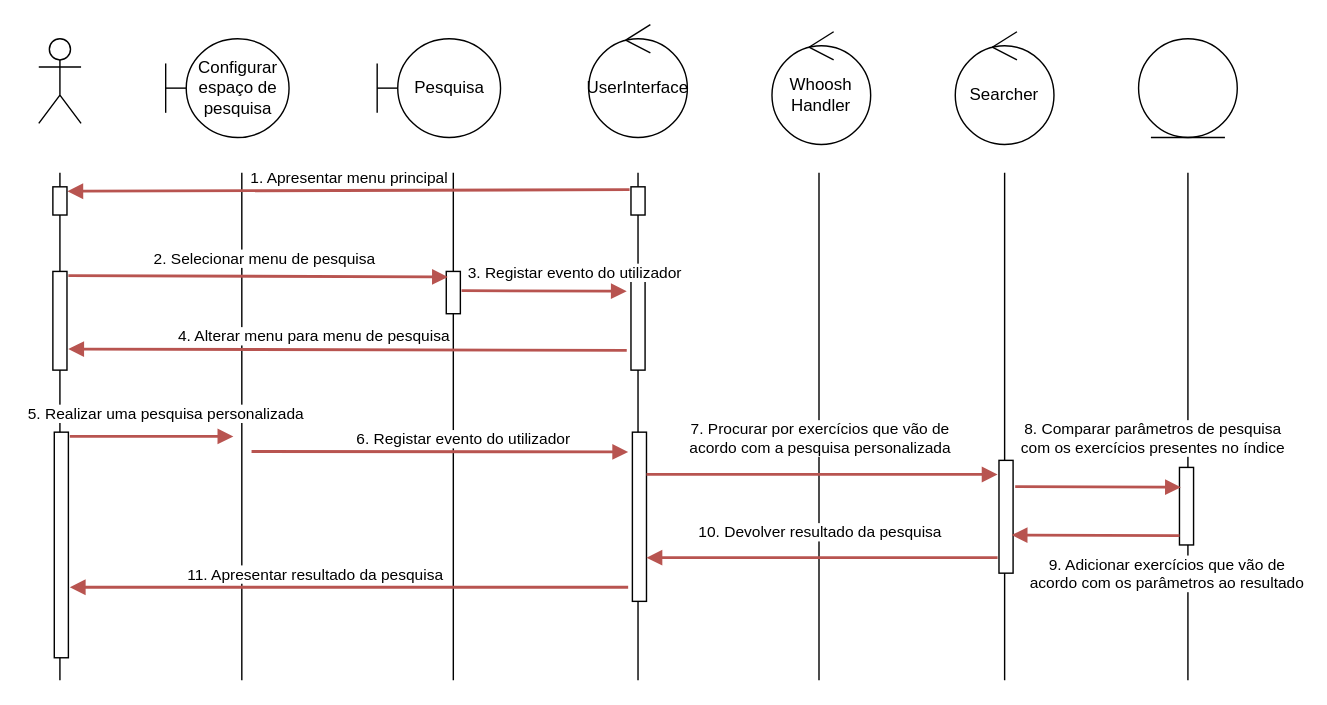
This 1327x705 diagram has some shape labels left out. The shapes that lost their labels are listed below. From the top down, each one's box as (x1, y1, x2, y2) in pixels, then its label:
(37, 37, 81, 123): Utilizador
(1137, 37, 1237, 137): Ficheiro de índices
